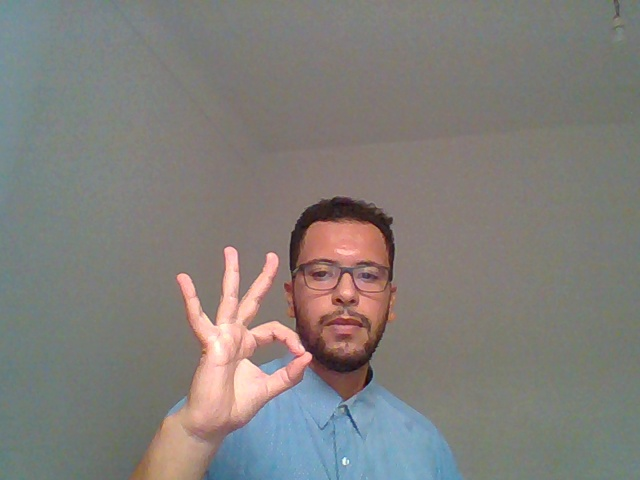okay: (137, 224, 315, 480)
